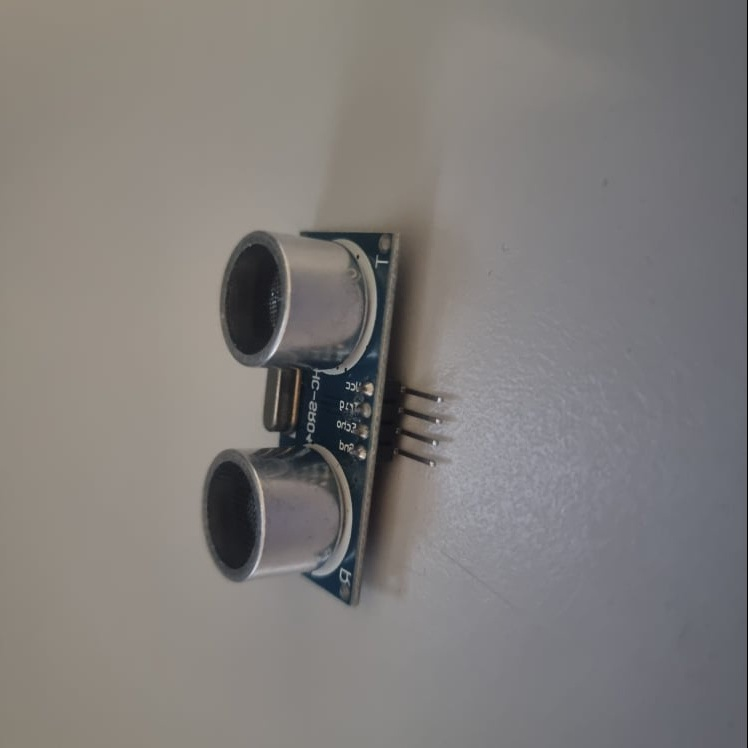SENSOR: (205, 230, 441, 606)
